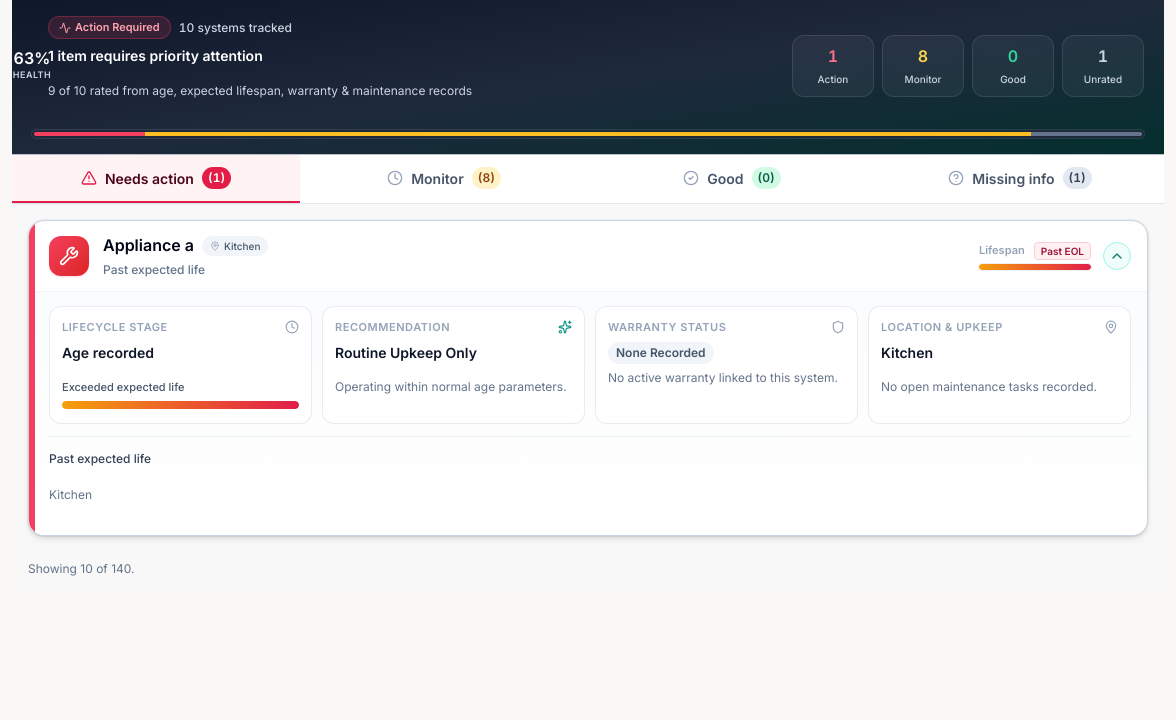
Test: urgency and unknown are distinguishable without colour: every tab carries a text label and a count
This screenshot has width=1176, height=720.
Expected: the tab "Needs action (1)" is shown, x1=12 y1=155 x2=300 y2=203
Click the tab "Missing info (1)": [1020, 179] box x1=876 y1=155 x2=1164 y2=203
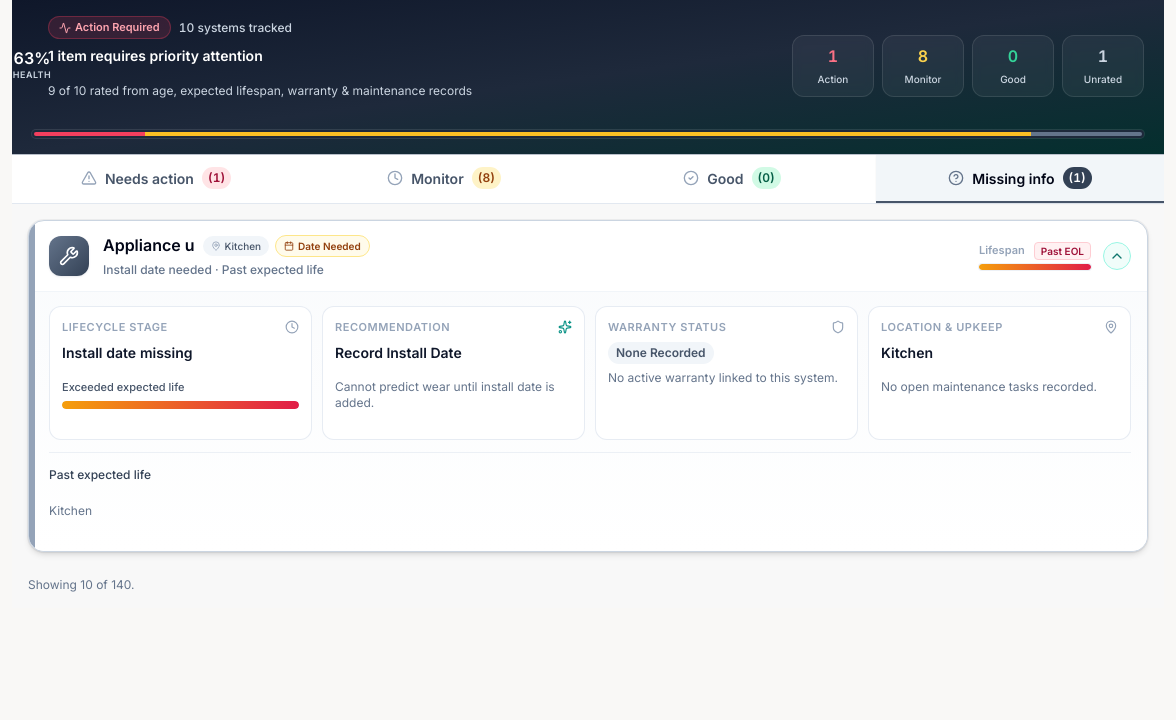
Expected: the button "Install date needed" is shown, x1=29 y1=221 x2=1147 y2=291
